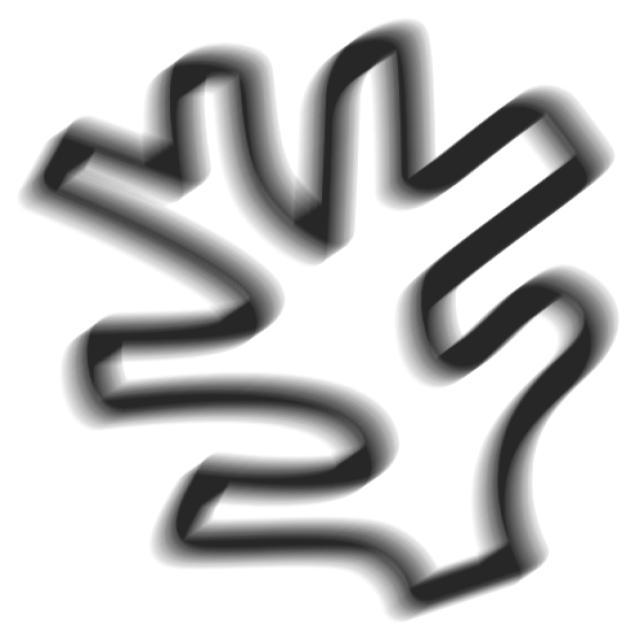coral: (28, 14, 624, 634)
